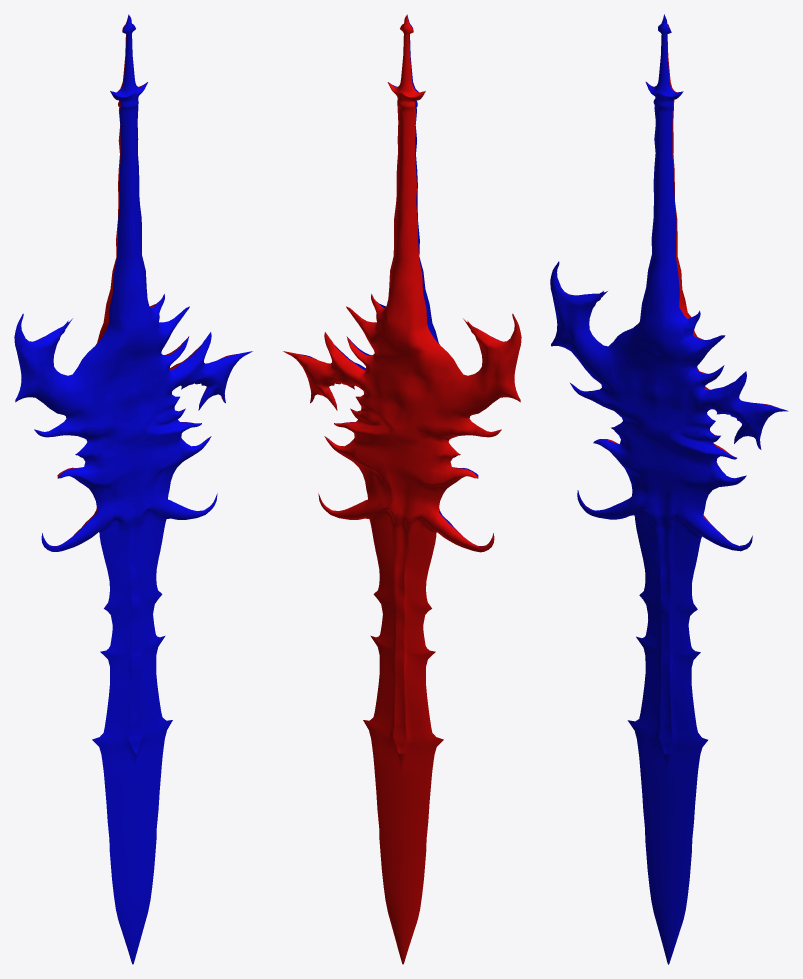
The model's file is SM_Sword_2.fbx.
3 views of the same model, side by side, from view 1: azimuth 30°, elevation 25°; view 2: azimuth 150°, elevation 25°; view 3: azimuth 330°, elevation 25° (orthographic).
Visible parts, largest first — view 1: SM_Sword_2; view 2: SM_Sword_2; view 3: SM_Sword_2.
Boxes of the visible parts, x1=… form: SM_Sword_2: x1=14, y1=14, x2=252, y2=964; SM_Sword_2: x1=283, y1=14, x2=521, y2=964; SM_Sword_2: x1=550, y1=14, x2=788, y2=964.
Bounding box in the file's own units: 0.2219 × 0.8442 × 0.0355.
